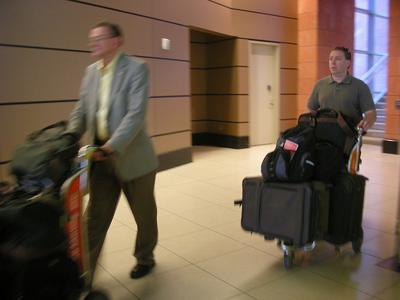person: (65, 19, 160, 280)
